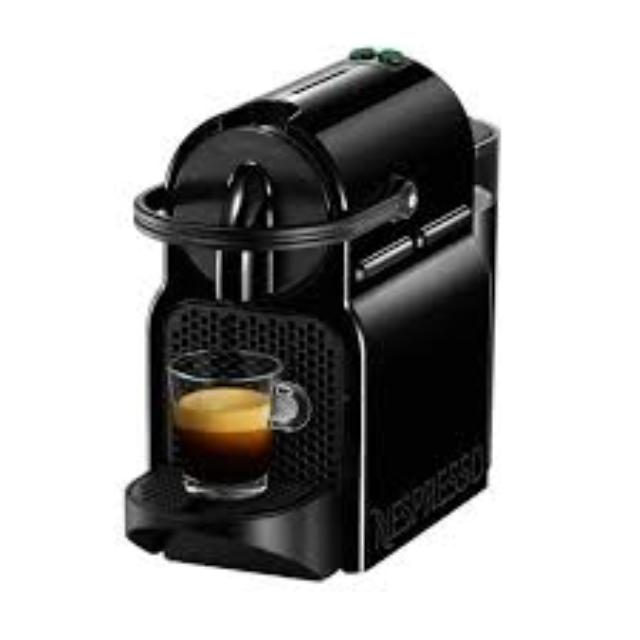Coffee-Machine: (120, 44, 508, 582)
